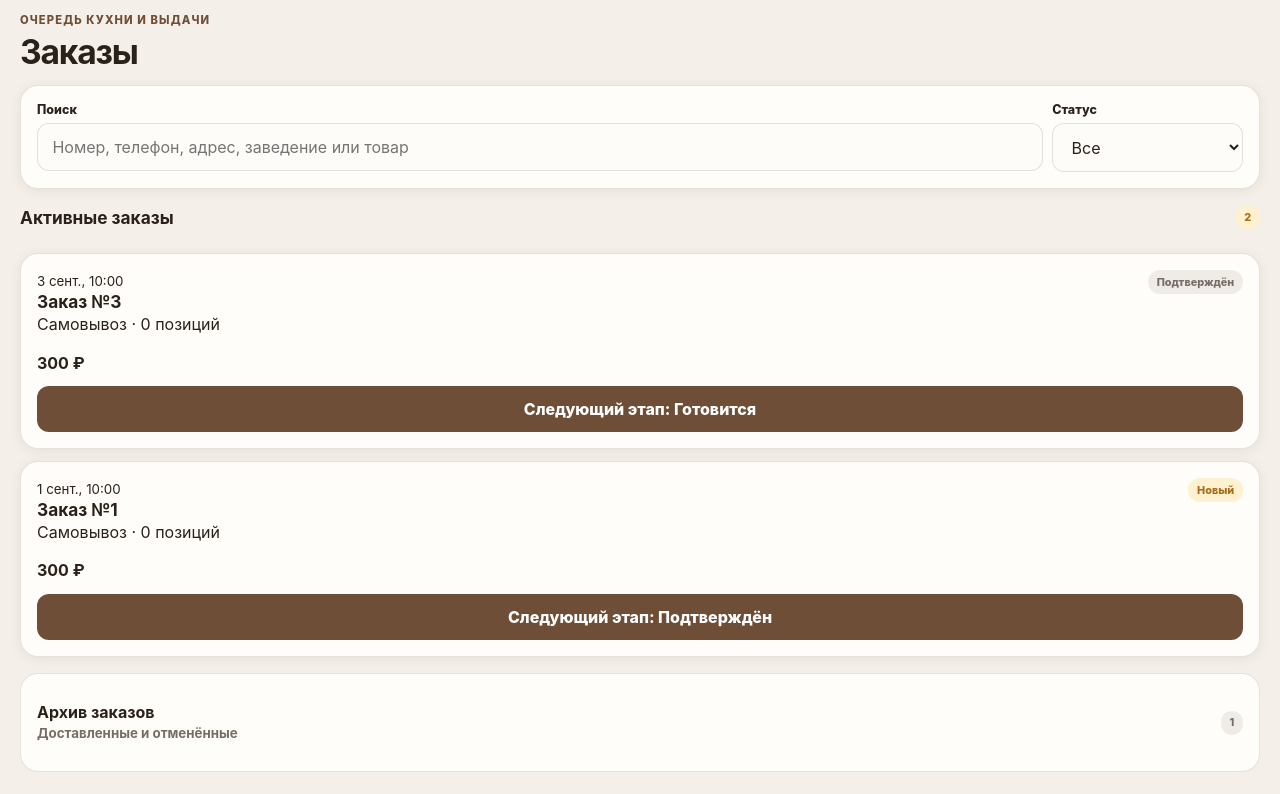
Test: order flows › shows newest active orders first and keeps finished orders in an archive
The width and height of the screenshot is (1280, 794).
Expected: the heading "Активные заказы" is shown, 20,207 -> 174,228
Step 1. Click the text "Архив заказов" → (96, 712), box 37,702 -> 154,722
(page scrolled)
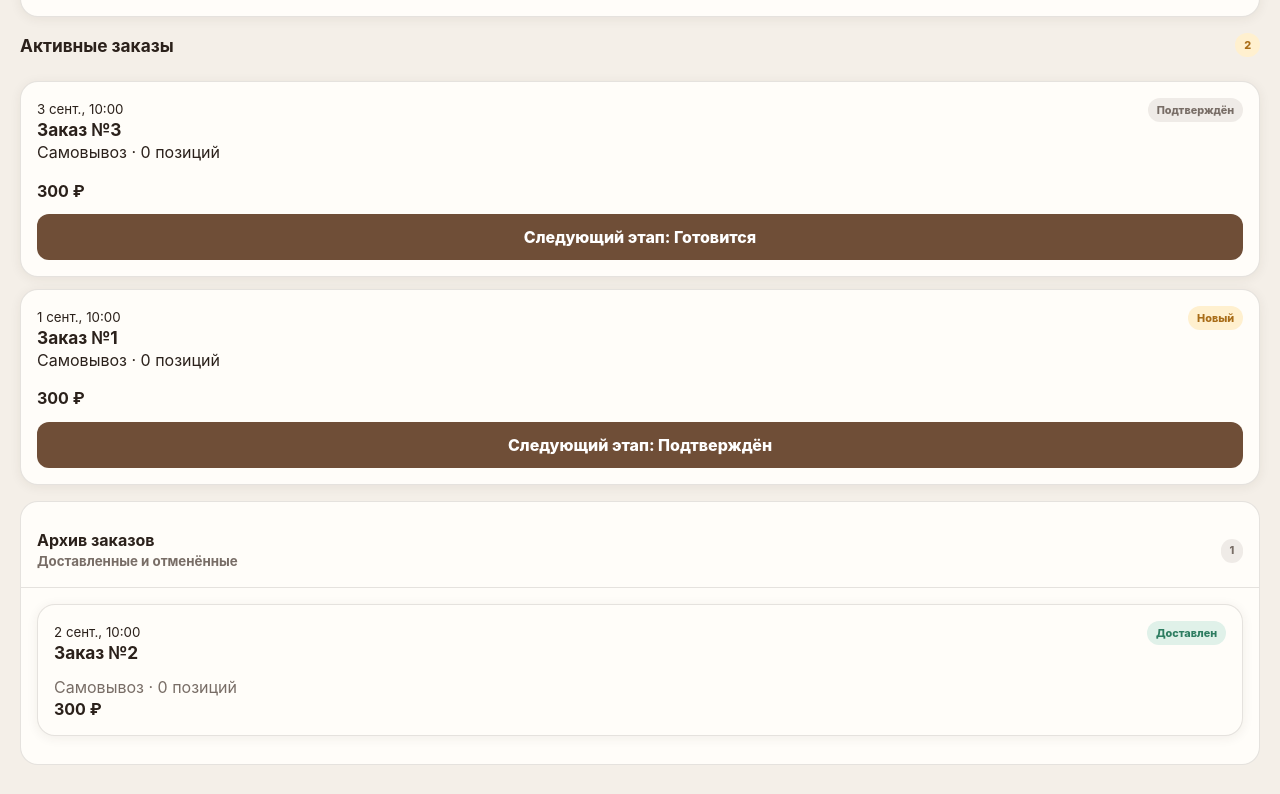
Expected: the heading "Заказ №2" is shown, 54,642 -> 140,664
